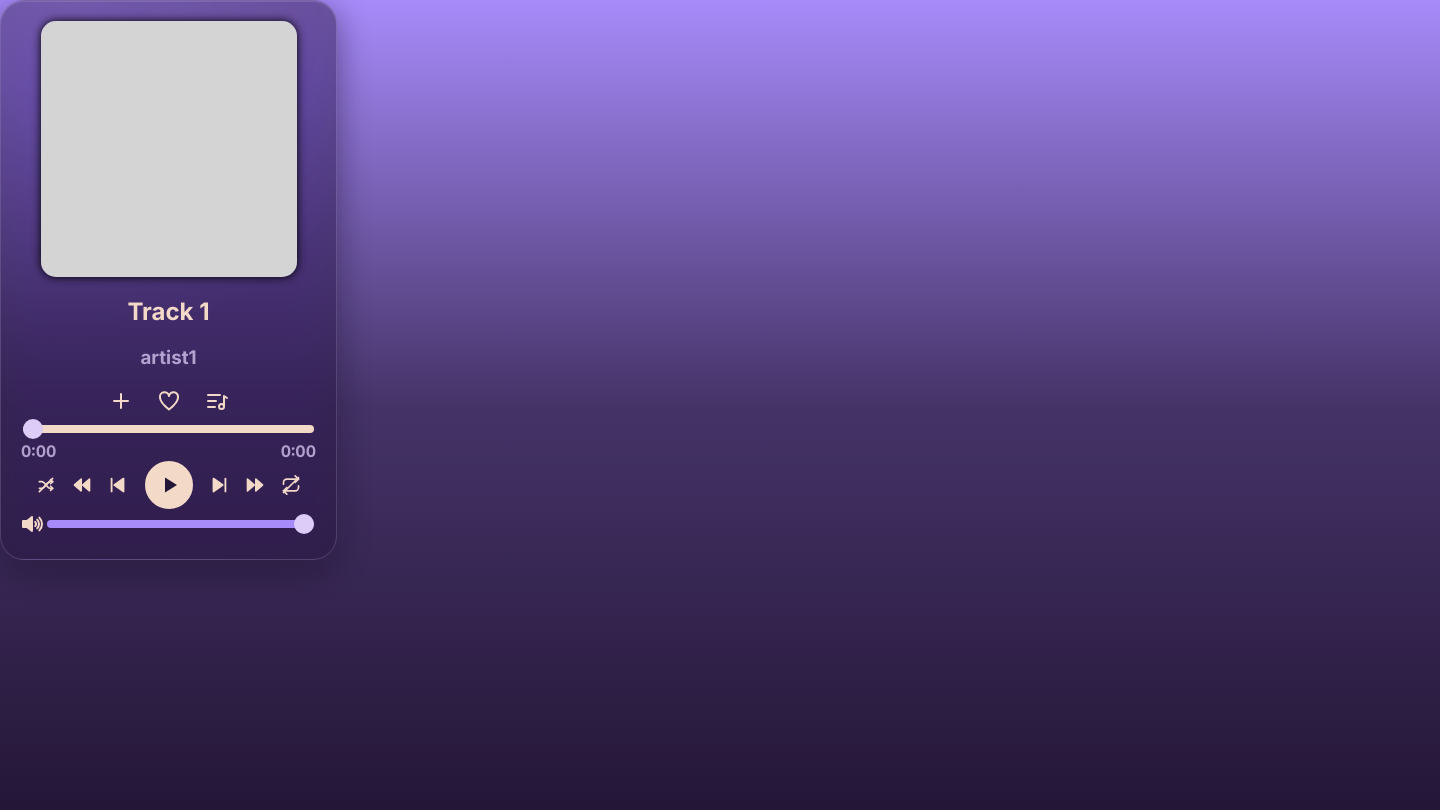
it: AudioPlayer › volume › toggles mute on the element
This screenshot has width=1440, height=810.
Click the button named "Mute" at (33, 525), box [21,512,45,538]
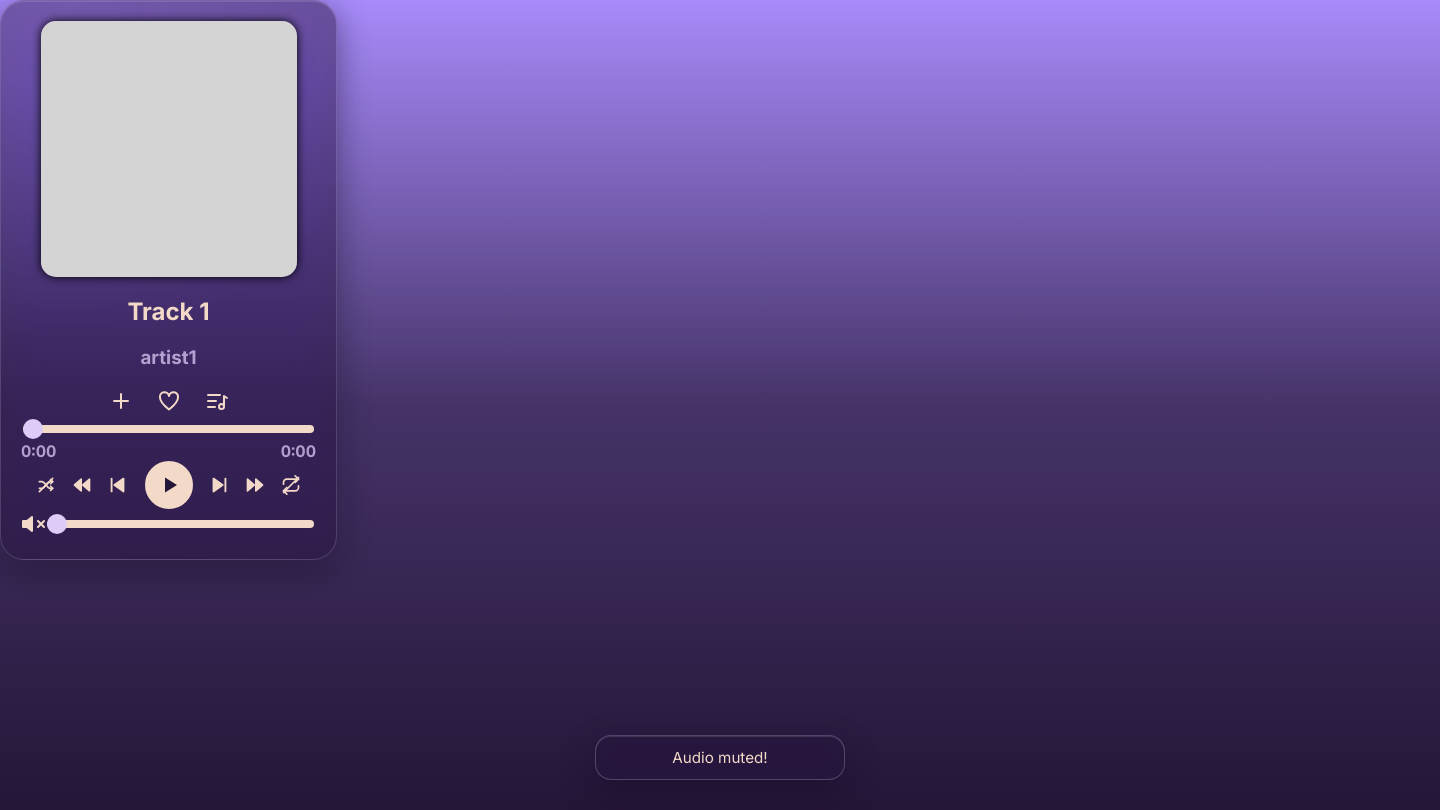
expect the text with id "snackbar" reads "Audio muted!": met, box [672,748,768,767]
expect the slider named "Volume" holds "0": met, box [47,514,314,534]
Click the button named "Unmute" at (33, 525), box [21,512,45,538]
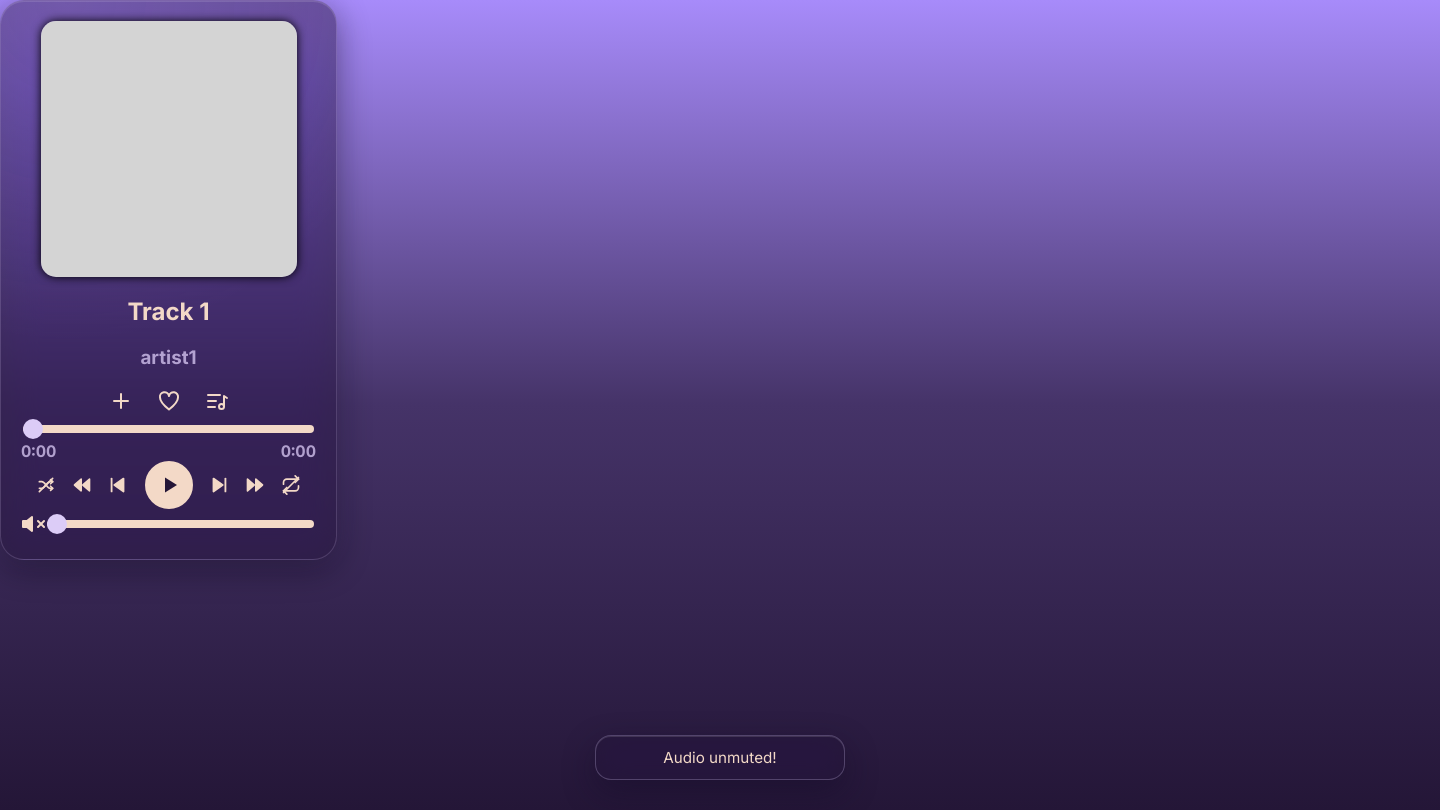
expect the text with id "snackbar" reads "Audio unmuted!": met, box [663,748,777,767]
